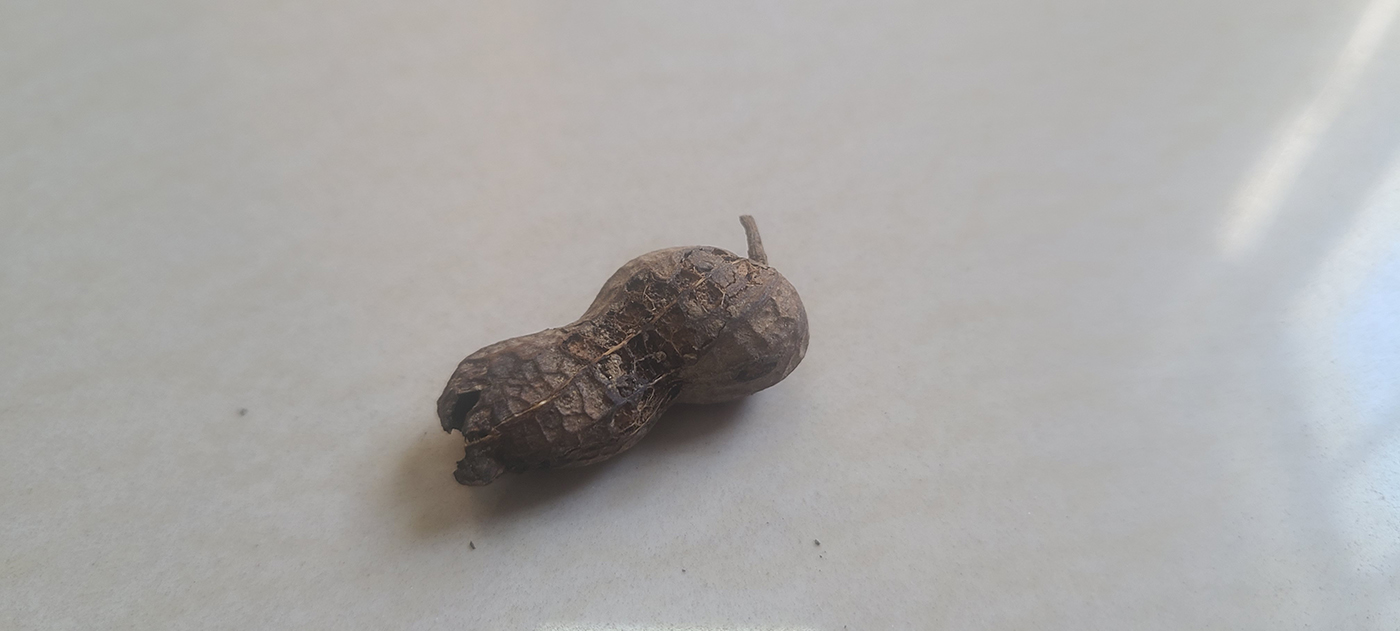l: (439, 240, 811, 502)
